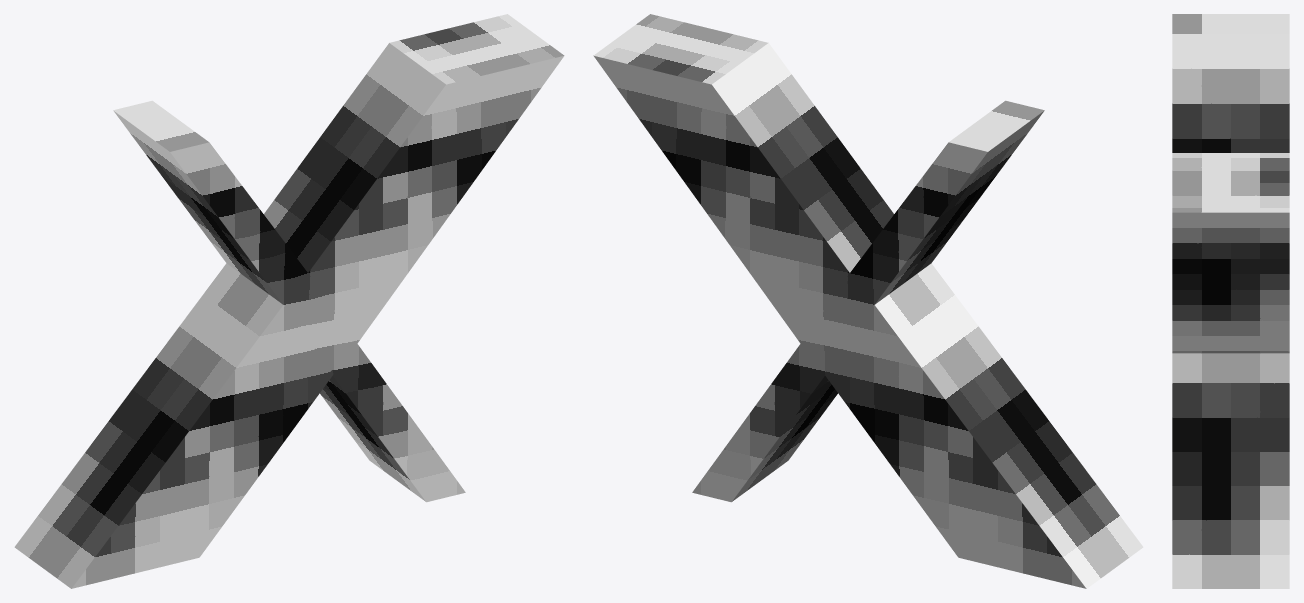
3 renders of one model, left to right at view 1: azimuth 30°, elevation 25°; view 2: azimuth 150°, elevation 25°; view 3: azimuth 270°, elevation 25°, orthographic. The views are drawn at different scales.
Visible parts, largest first — view 1: Mesh0; view 2: Mesh0; view 3: Mesh0.
Part boxes in pixels (x1,y1,x2,y2): Mesh0: (14, 14, 564, 588); Mesh0: (593, 14, 1143, 588); Mesh0: (1172, 14, 1289, 588).
Size of the model in its own units: 100 by 80 by 20.
1 material, 1 textured.
